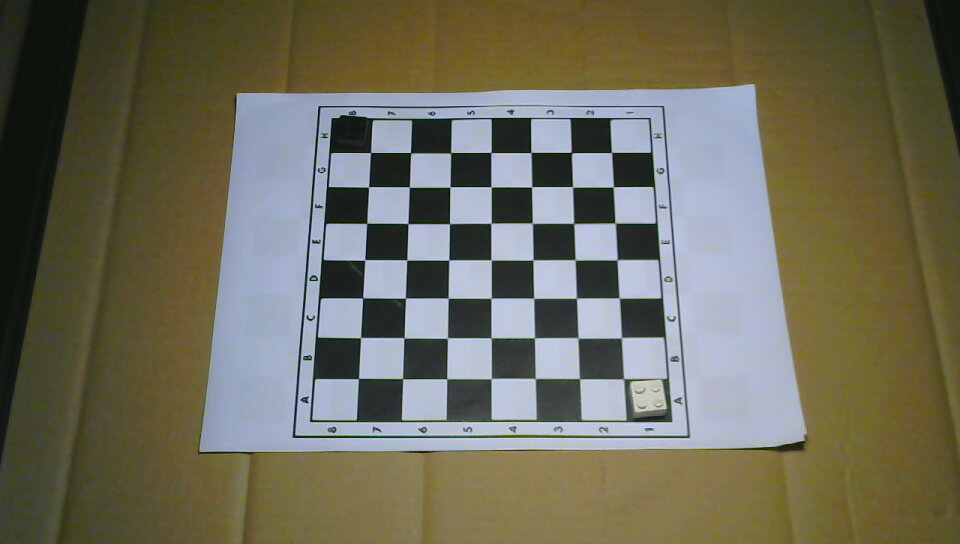bp: (337, 114, 369, 150)
wp: (629, 380, 668, 418)
